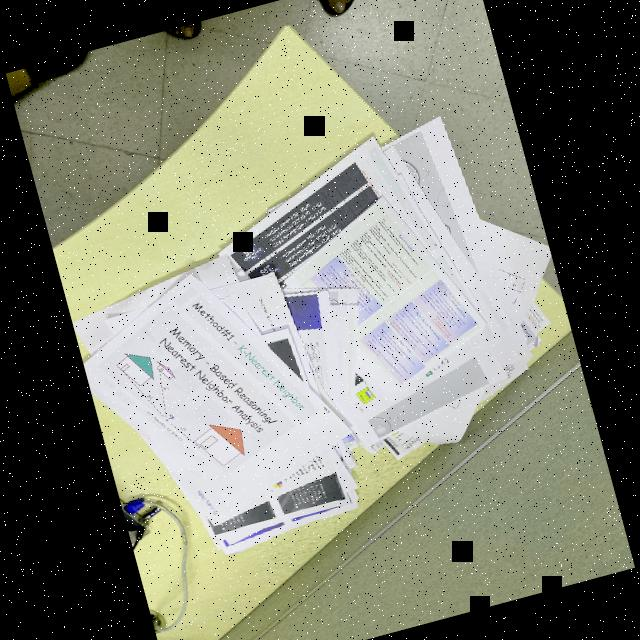reuseable_paper: (44, 94, 605, 582)
